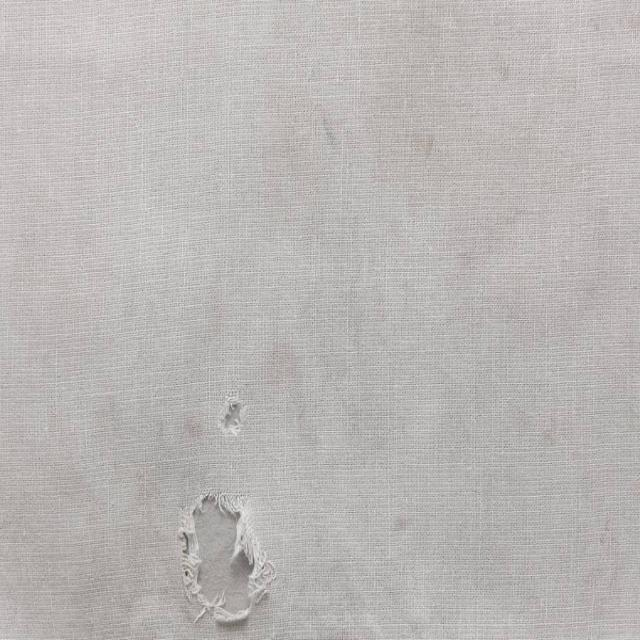Hole: (178, 493, 275, 625), (217, 390, 247, 437)
